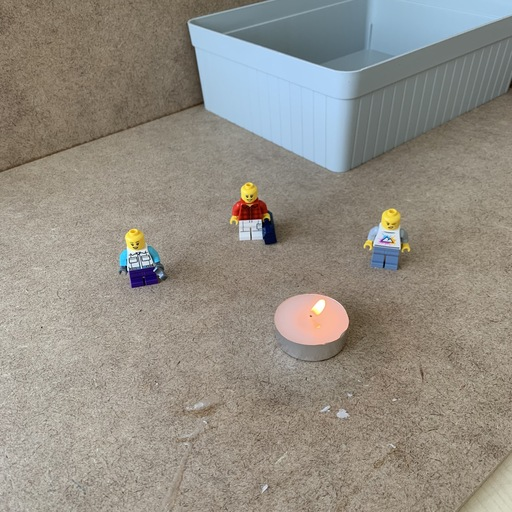fire: (304, 300, 328, 320)
human: (114, 226, 169, 294), (223, 181, 278, 248), (363, 208, 411, 271)
